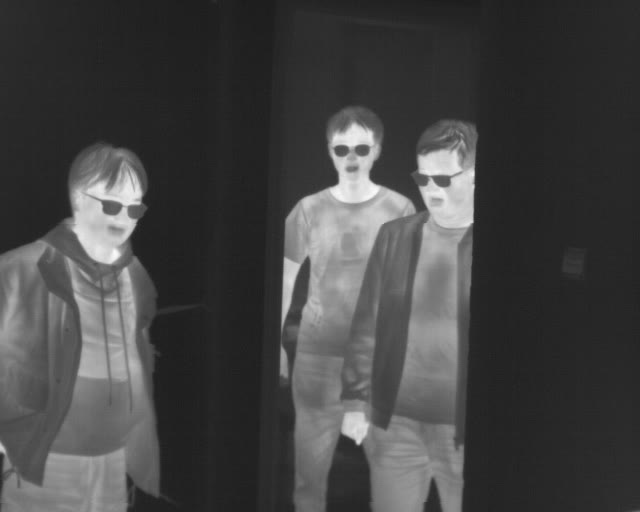face: (67, 140, 146, 247), (414, 118, 477, 221), (325, 104, 383, 184)
